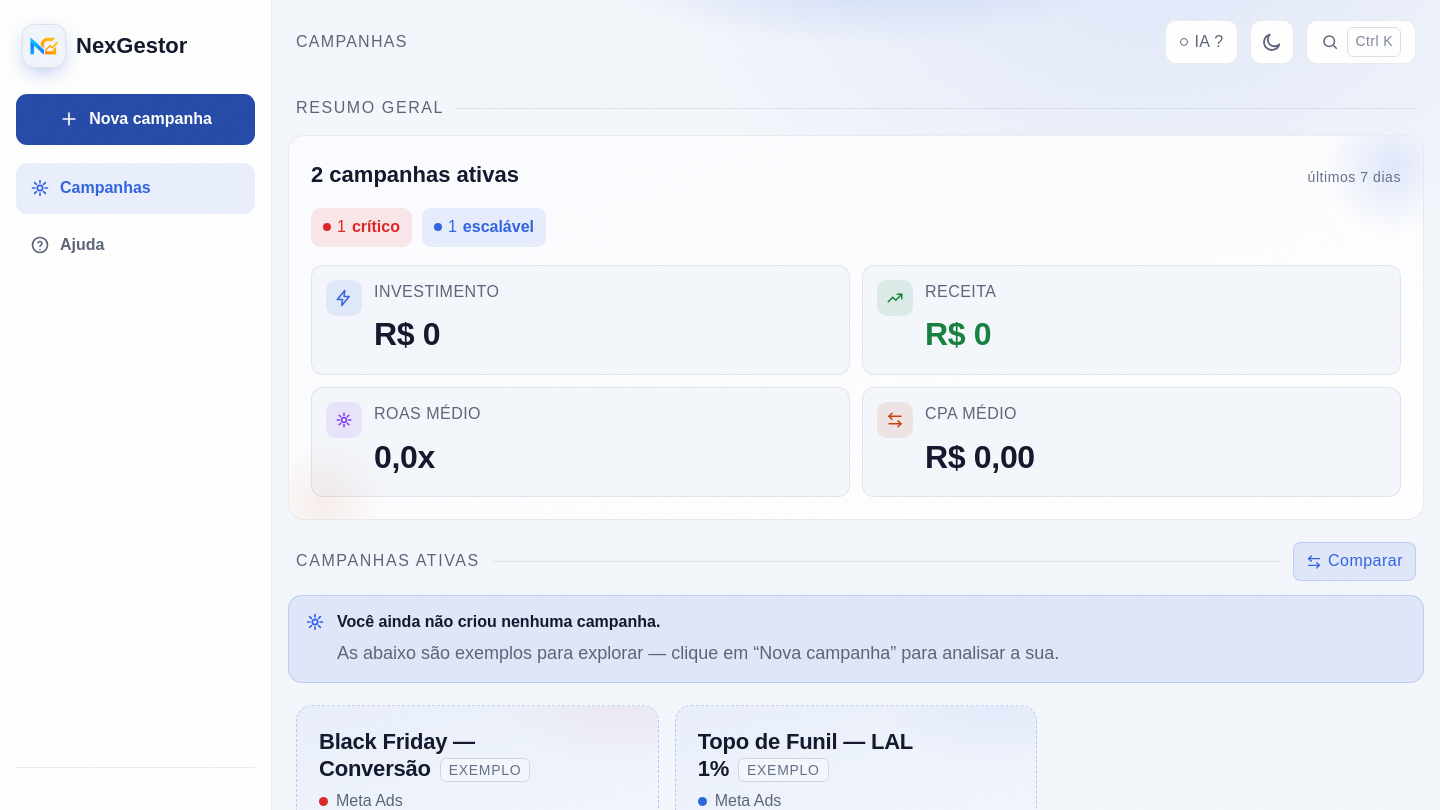
it: AC1/AC5 — a sidebar leva a criar campanha e à Ajuda › abre a Central de Ajuda em UM clique, e o cabeçalho acompanha
Step 1. Click the button "Ajuda" → (136, 245), box [16,220,255,270]
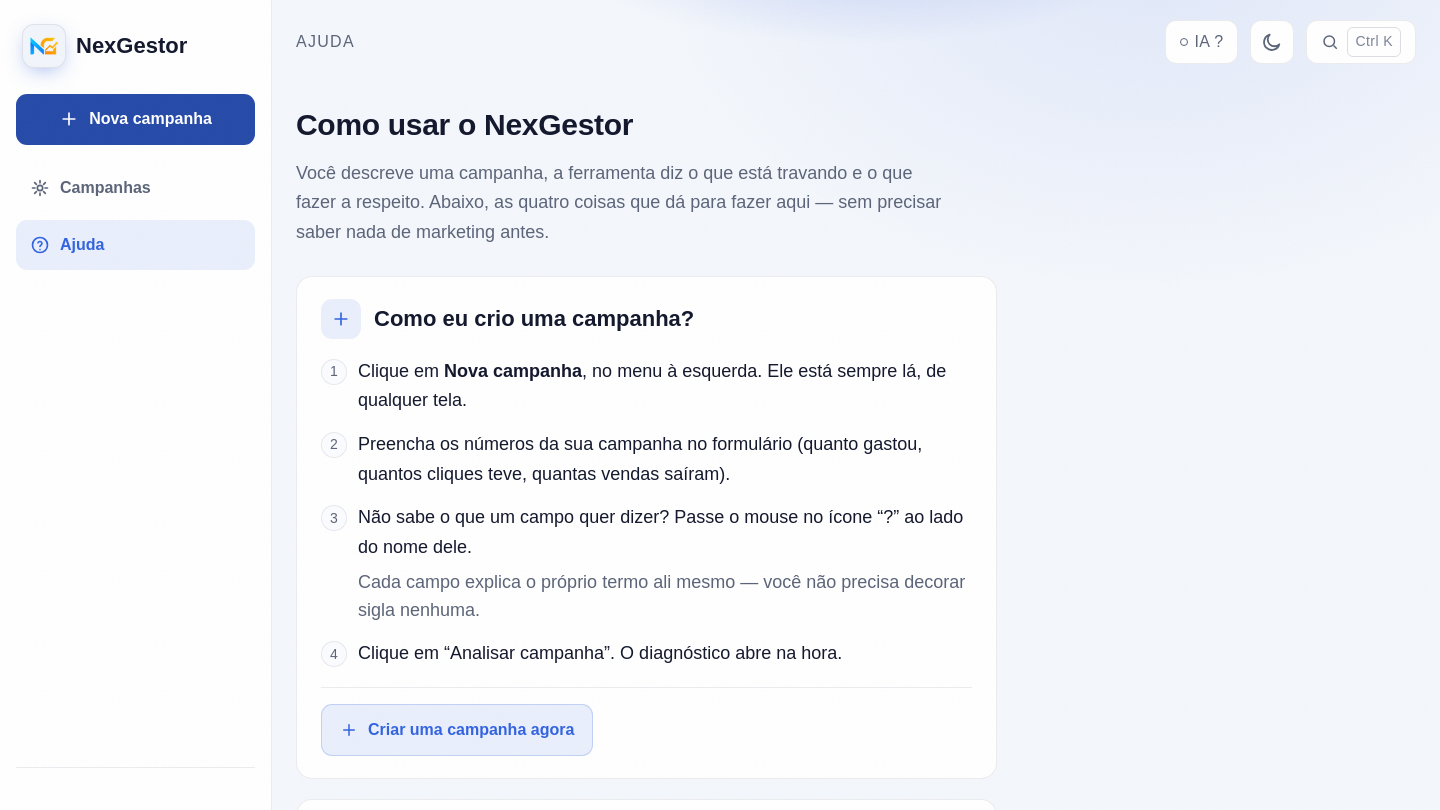
Result: the heading "Como usar o NexGestor" is shown at [296,108,633,141]
